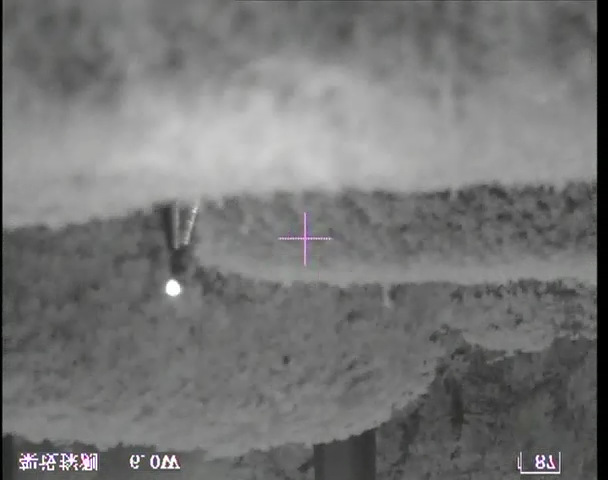my: (163, 279, 182, 297)
